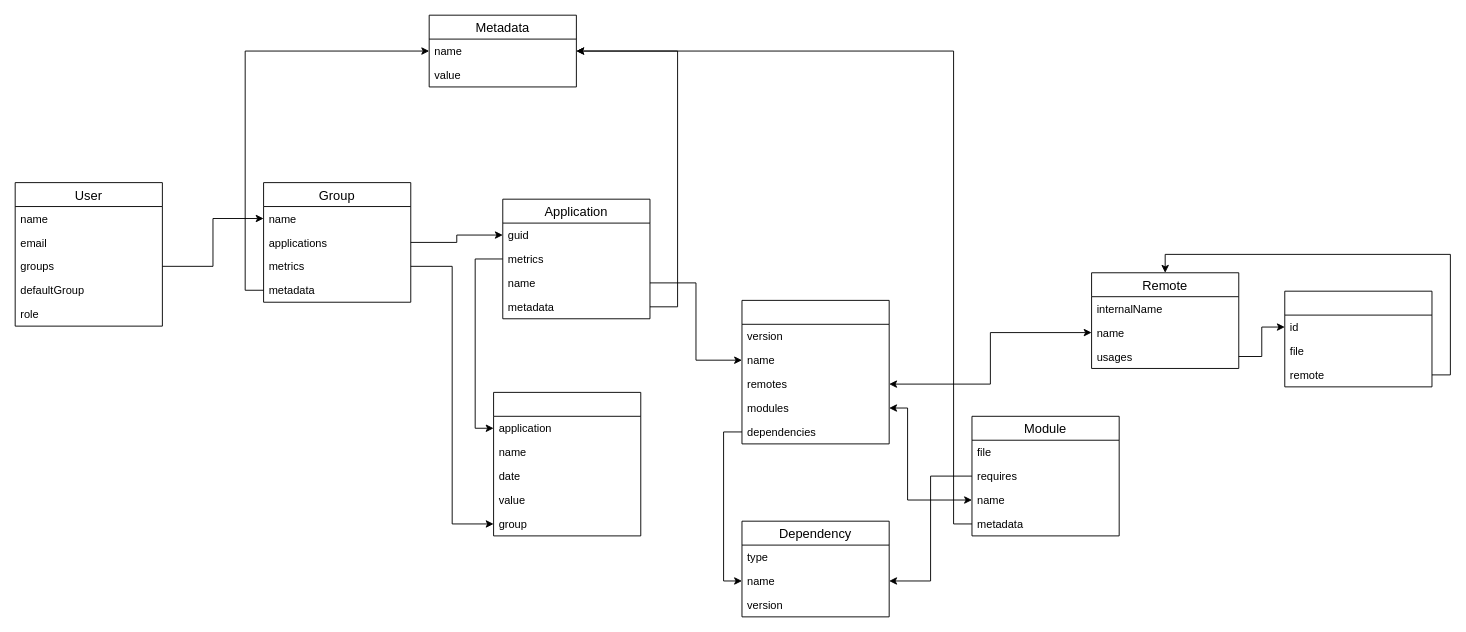
This 1466x632 diagram has some shape labels left out. Here are the shapes that lost their labels. From the top down, the box of each, then its label:
(1284, 290, 1432, 387): Usage
(741, 299, 889, 444): ApplicationVersion
(493, 391, 641, 536): MetricValue
